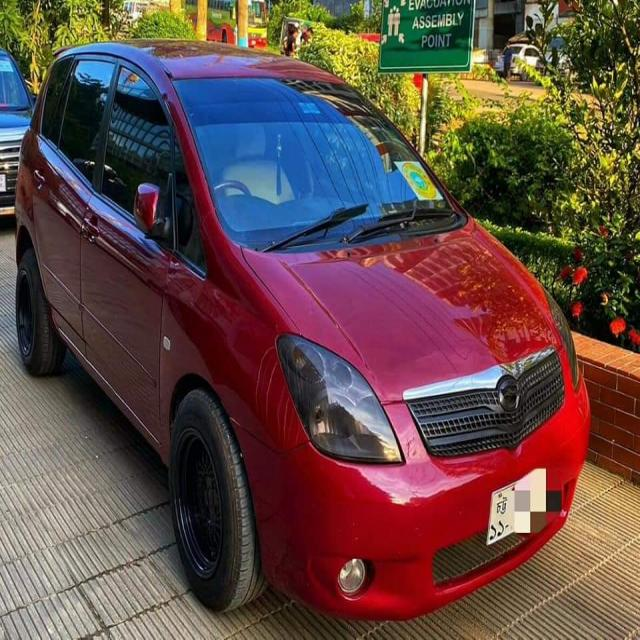maroon: (19, 40, 571, 614)
